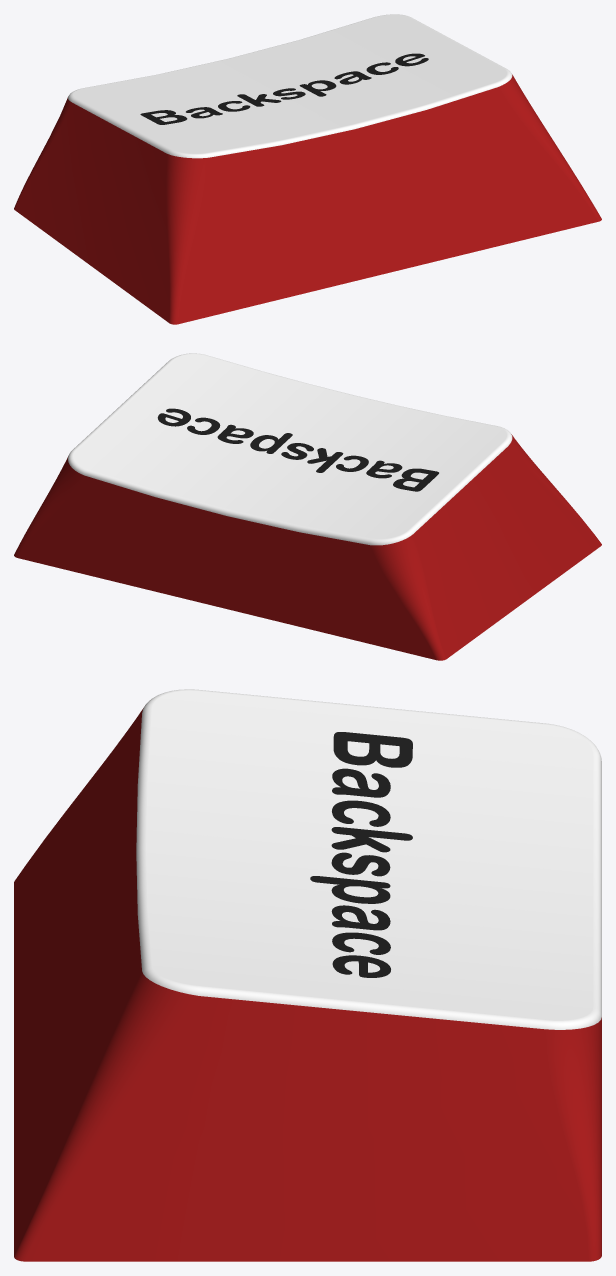
The model's file is Backspace Text 150.fbx.
3 renders of one model, top to bottom at view 1: azimuth 30°, elevation 25°; view 2: azimuth 150°, elevation 25°; view 3: azimuth 270°, elevation 25°, orthographic. The views are drawn at different scales.
Visible parts, largest first — view 1: Body1; view 2: Body1; view 3: Body1.
Part boxes in pixels (x1,y1,x2,y2): Body1: (14, 14, 601, 324); Body1: (14, 353, 601, 660); Body1: (14, 689, 601, 1261).
Size of the model in its own units: 27.81 by 7.89 by 18.
